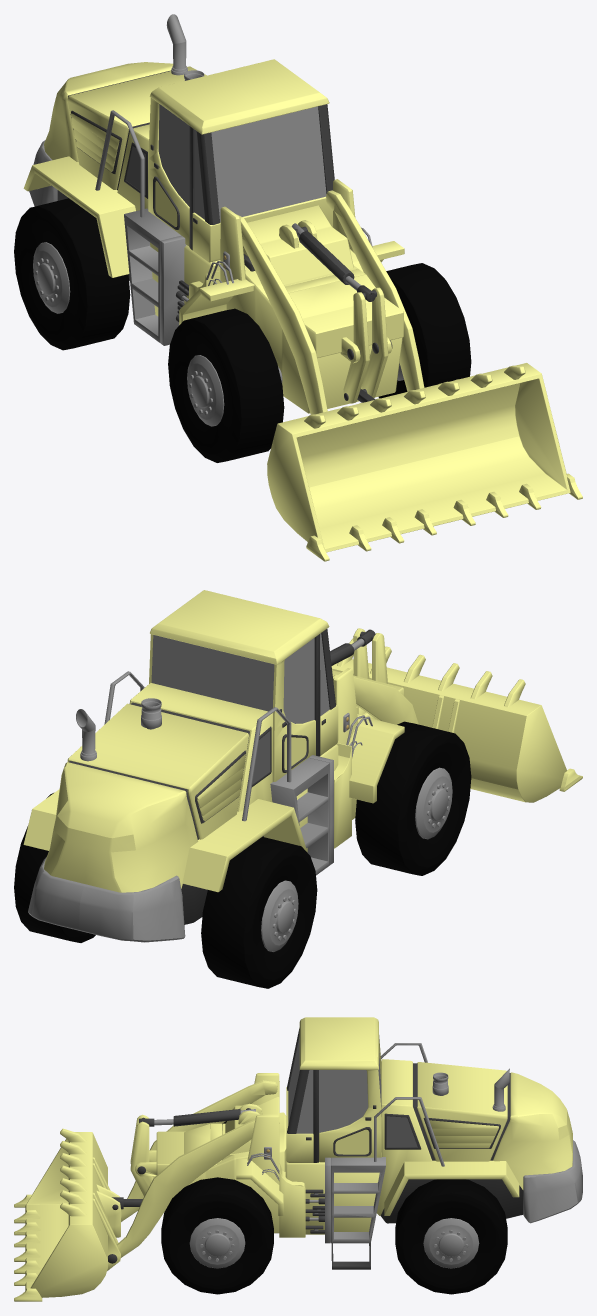
The model's file is buldozor.fbx.
The picture shows the model from 3 angles, top to bottom: view 1: azimuth 30°, elevation 25°; view 2: azimuth 150°, elevation 25°; view 3: azimuth 270°, elevation 25°; orthographic projection. The views are drawn at different scales.
Visible parts, largest first — view 1: pCube79, pCube79.002, pCube79.001, pCube79.004, pCube79.003; view 2: pCube79, pCube79.002, pCube79.001, pCube79.004, pCube79.003, pCube79.005; view 3: pCube79, pCube79.002, pCube79.001, pCube79.003, pCube79.004, pCube79.005.
Part boxes in pixels (box(x1,y1,x2,y2)): pCube79: box(23, 59, 582, 561); pCube79.002: box(14, 198, 471, 462); pCube79.001: box(29, 14, 403, 426); pCube79.004: box(158, 104, 326, 222); pCube79.003: box(57, 70, 392, 402); pCube79: box(23, 590, 582, 892); pCube79.002: box(14, 721, 471, 988); pCube79.001: box(28, 638, 452, 951); pCube79.004: box(151, 633, 329, 723); pCube79.003: box(69, 629, 375, 924); pCube79.005: box(252, 731, 270, 783); pCube79: box(14, 1017, 572, 1301); pCube79.002: box(161, 1121, 507, 1294); pCube79.001: box(154, 1043, 582, 1268); pCube79.003: box(108, 1028, 523, 1269); pCube79.004: box(288, 1037, 381, 1133); pCube79.005: box(386, 1116, 417, 1147).
Bounding box in the file's own units: 32005 × 33582 × 80526.
